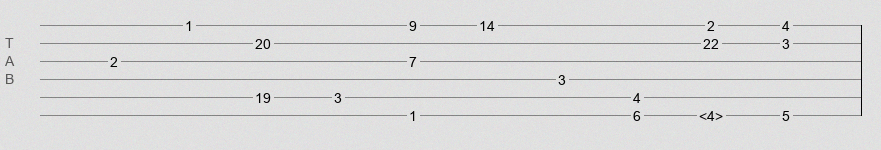1: (185, 18, 193, 28), (409, 108, 417, 118)
14: (479, 18, 495, 28)
19: (255, 90, 271, 100)
2: (110, 54, 118, 64), (707, 18, 715, 28)
20: (255, 36, 271, 46)
22: (703, 36, 719, 46)
3: (334, 90, 342, 100), (558, 72, 566, 82), (782, 36, 790, 46)
4: (633, 90, 641, 100), (782, 18, 790, 28)
5: (782, 108, 790, 118)
6: (633, 108, 641, 118)
7: (409, 54, 417, 64)
9: (409, 18, 417, 28)
harmonic: (699, 108, 723, 118)
